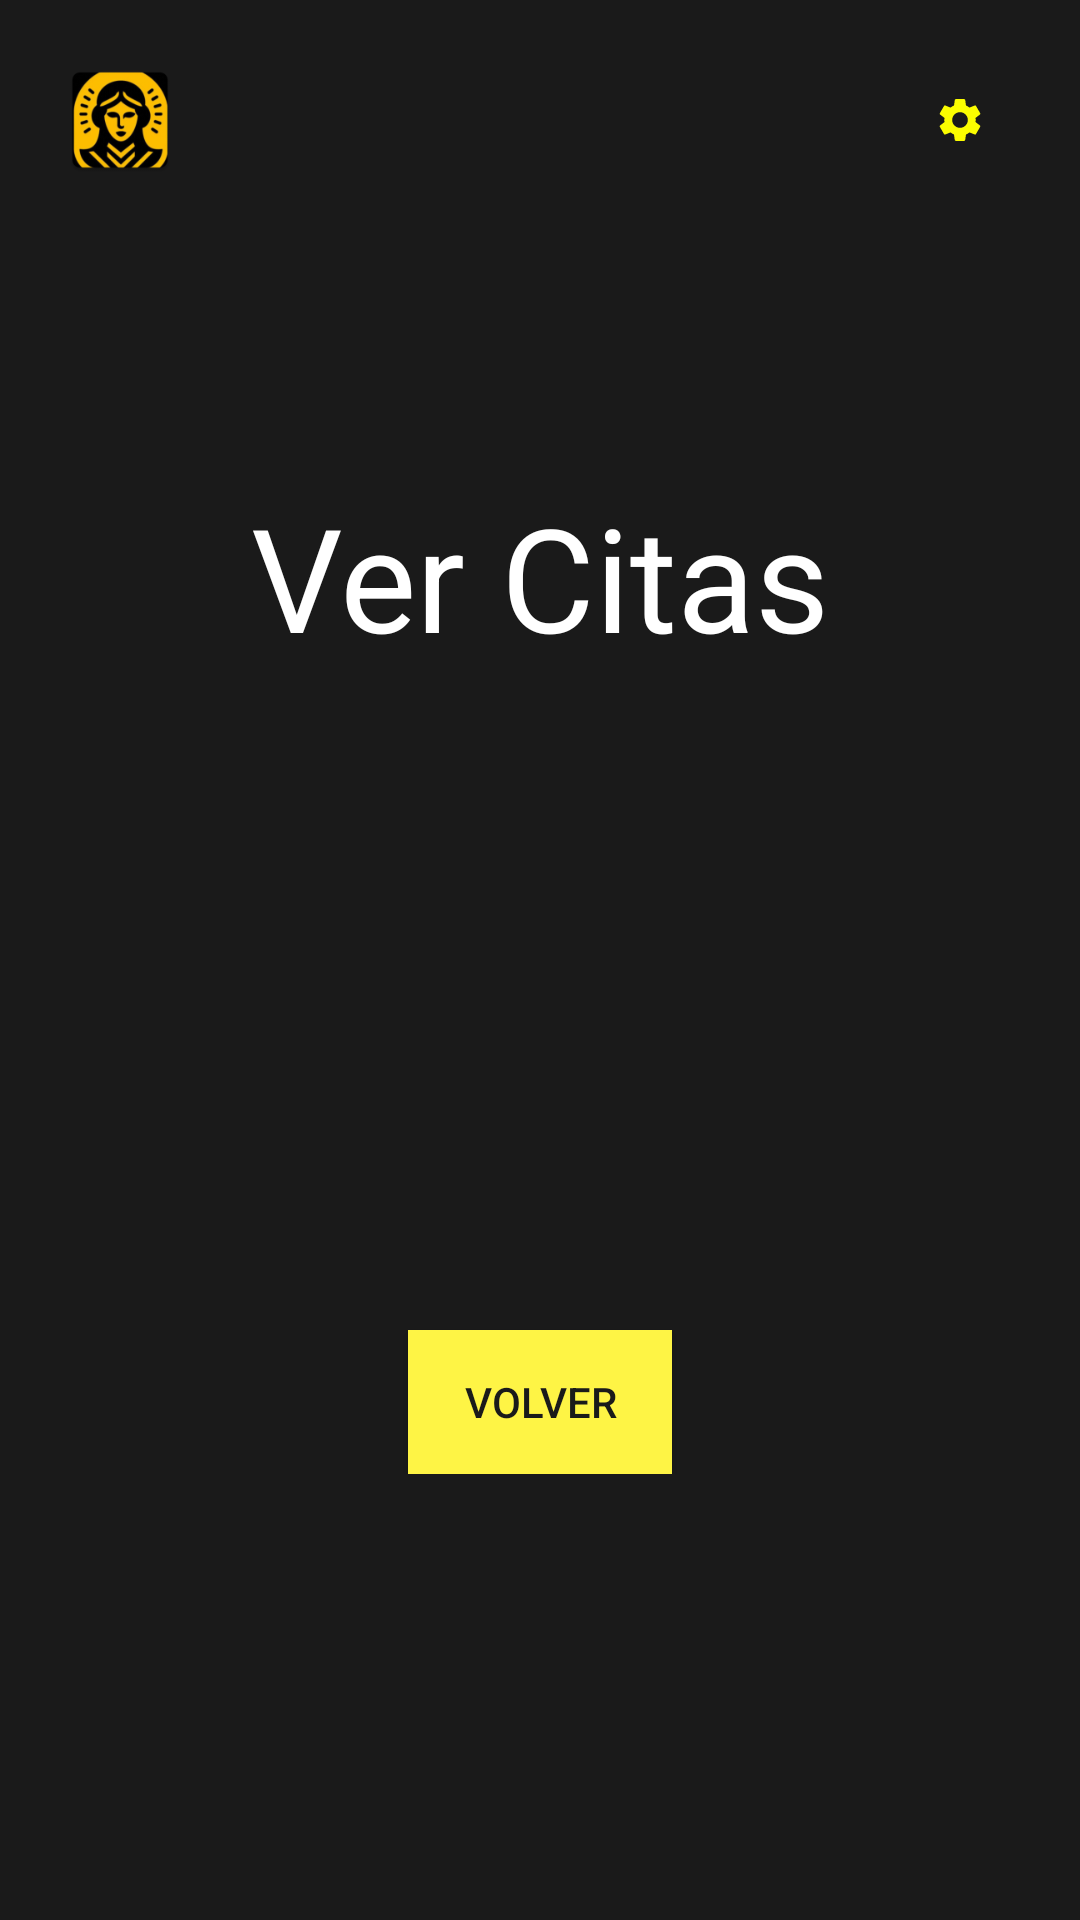

Locate icon controls on the screen. Image size 1080x1920, boxes as (x1, y1, x2, y2).
profile: (73, 72, 168, 168)
settings: (939, 99, 981, 141)
